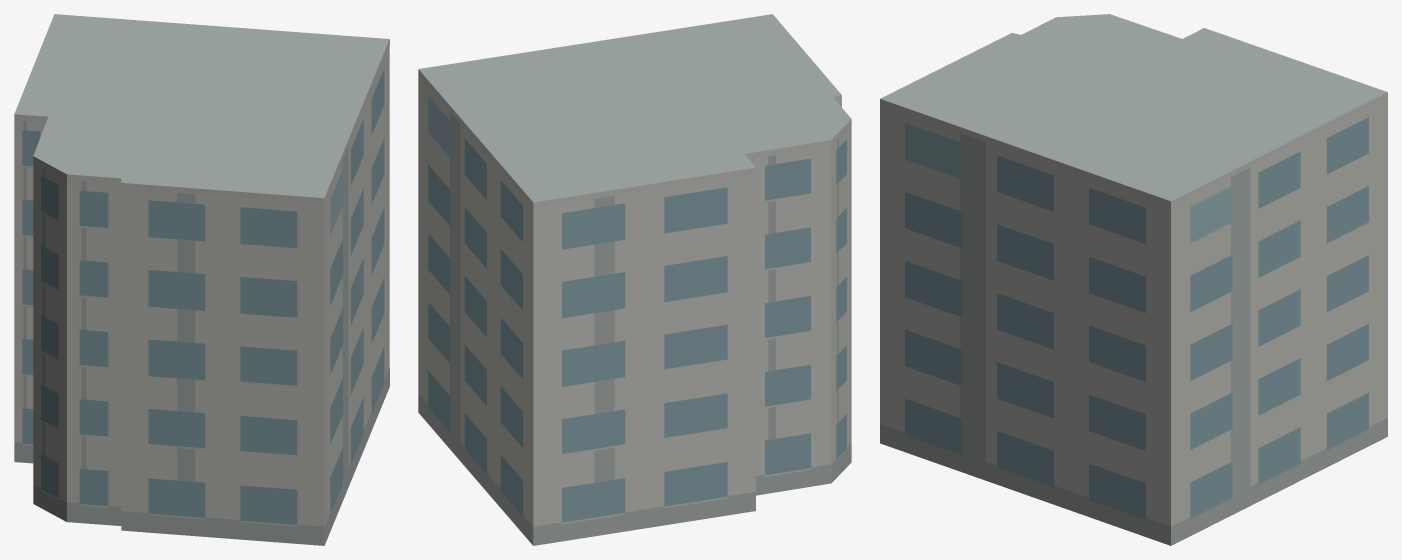
File: survey-upis-32851847.glb
3 renders of one model, left to right at view 1: azimuth 30°, elevation 25°; view 2: azimuth 150°, elevation 25°; view 3: azimuth 270°, elevation 25°, orthographic.
Parts seen in each view (by area): view 1: survey-upis-32851847.tmp; view 2: survey-upis-32851847.tmp; view 3: survey-upis-32851847.tmp.
Boxes of the visible parts, x1,y1,x2,y2 form: survey-upis-32851847.tmp: (14, 14, 389, 545); survey-upis-32851847.tmp: (418, 14, 851, 545); survey-upis-32851847.tmp: (880, 14, 1387, 545).
Bounding box in the file's own units: 16.11 × 13.81 × 18.45.
